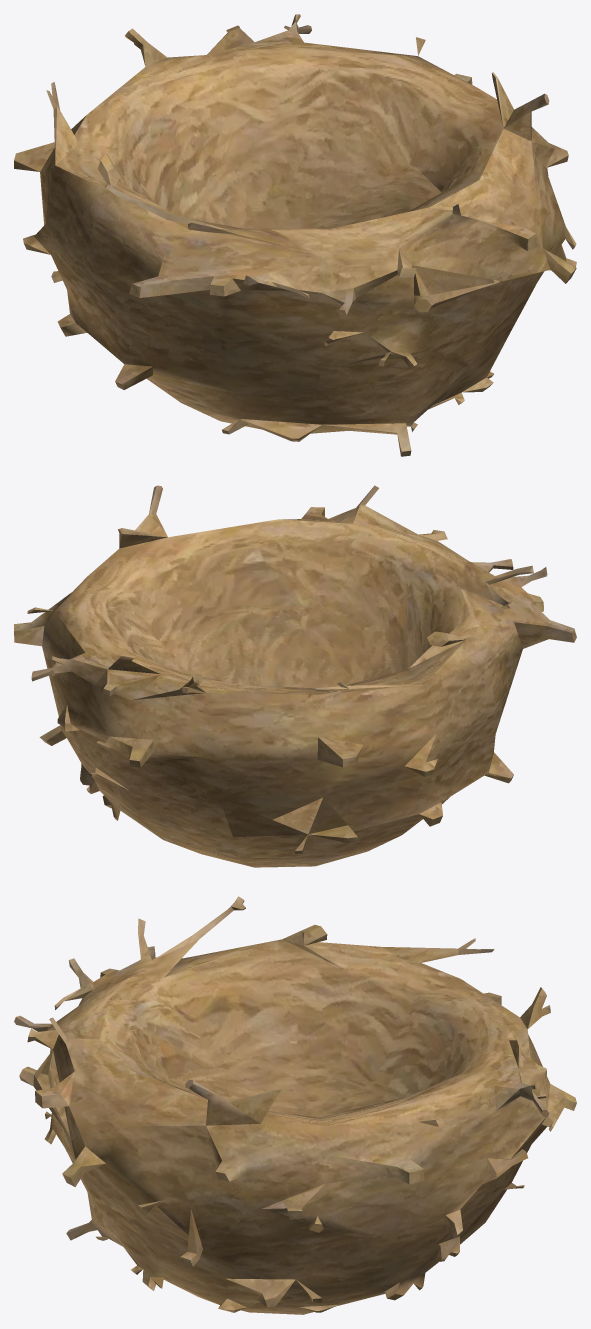
File: nest.glb
The picture shows the model from 3 angles, top to bottom: view 1: azimuth 30°, elevation 25°; view 2: azimuth 150°, elevation 25°; view 3: azimuth 270°, elevation 25°; orthographic projection. The views are drawn at different scales.
Parts seen in each view (by area): view 1: tripo_node_e182b01a-e0f5-4c9d-9968-26eed955028d; view 2: tripo_node_e182b01a-e0f5-4c9d-9968-26eed955028d; view 3: tripo_node_e182b01a-e0f5-4c9d-9968-26eed955028d.
Boxes of the visible parts, x1,y1,x2,y2 form: tripo_node_e182b01a-e0f5-4c9d-9968-26eed955028d: (14,14,576,456); tripo_node_e182b01a-e0f5-4c9d-9968-26eed955028d: (14,485,576,867); tripo_node_e182b01a-e0f5-4c9d-9968-26eed955028d: (14,896,576,1314).
Bounding box in the file's own units: 0.9307 × 0.5526 × 1.
Materials: 1 (1 with a texture image).
